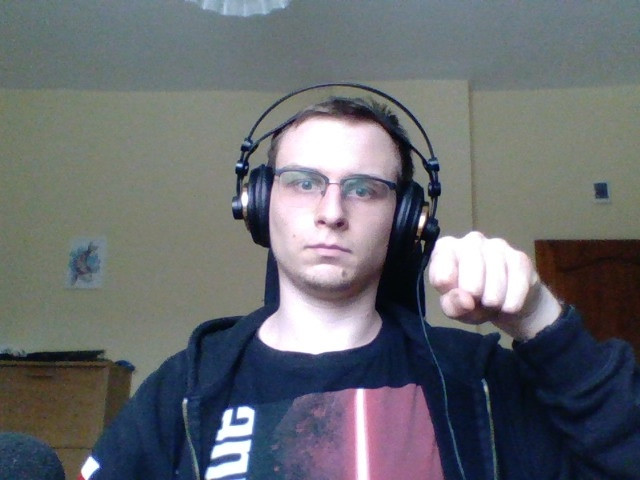yes: (424, 224, 550, 332)
